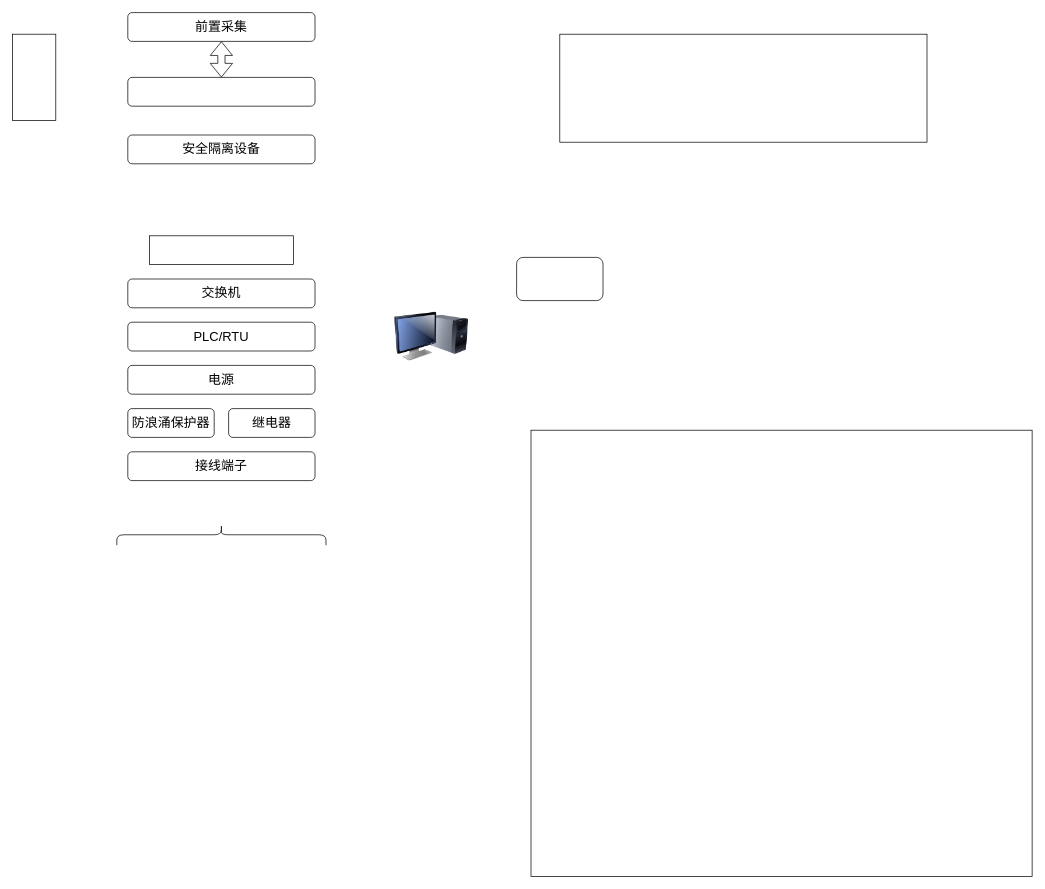
Some shapes in this 1045 by 889 pixel diagram are drawn without their labels. The shapes that lost their labels are listed below. From the top down, each one's centre as x and y in pixels, then its label:
At (x=221, y=91): "SCADA应用".
At (x=221, y=250): "PLC控制柜".
At (x=559, y=279): "上位机".
At (x=221, y=534): "仪表/门禁系统/UPS主机/声光警报……".
